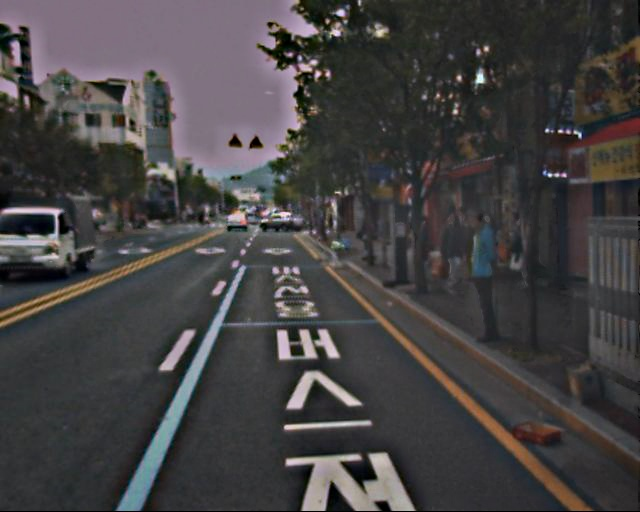person: (454, 207, 508, 339), (433, 212, 466, 293), (505, 210, 536, 285), (416, 216, 436, 264)
